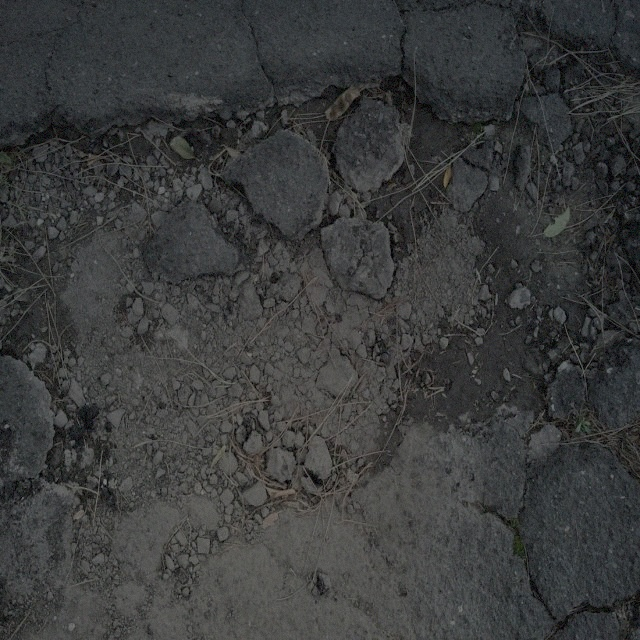pothole: (28, 67, 582, 500)
